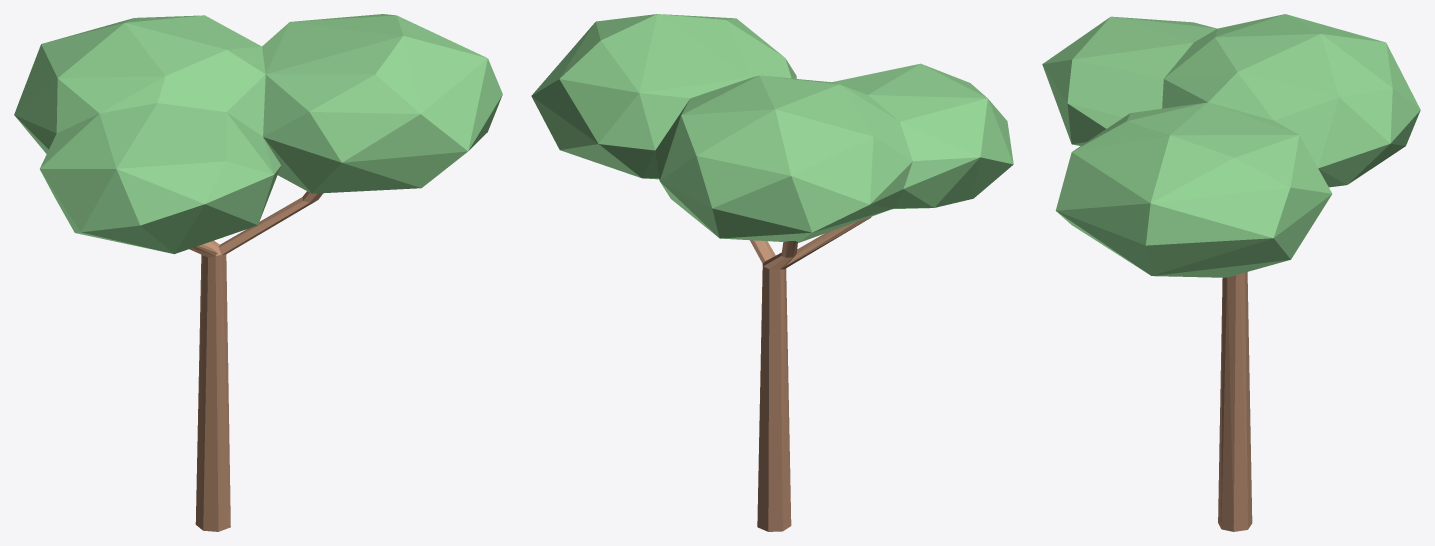
File: tree22.fbx
3 views of the same model, side by side, from view 1: azimuth 30°, elevation 25°; view 2: azimuth 150°, elevation 25°; view 3: azimuth 270°, elevation 25° (orthographic). The views are drawn at different scales.
Parts seen in each view (by area): view 1: treetype22; view 2: treetype22; view 3: treetype22.
Boxes of the visible parts, x1,y1,x2,y2 form: treetype22: (14,14,502,531); treetype22: (531,14,1013,531); treetype22: (1042,14,1420,531).
Bounding box in the file's own units: 192 × 201 × 147.
